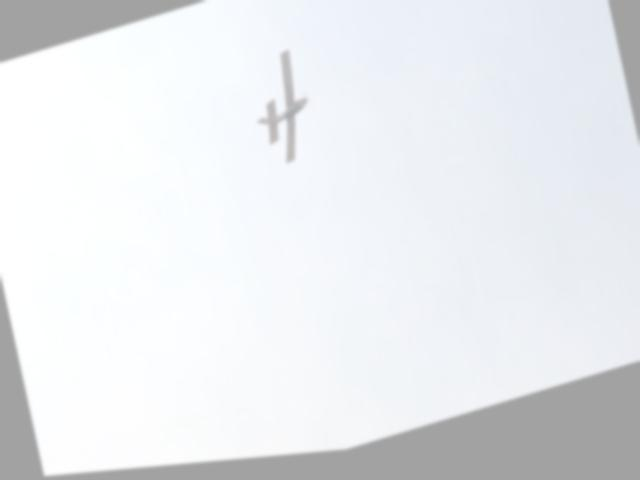plane: (244, 51, 322, 179)
